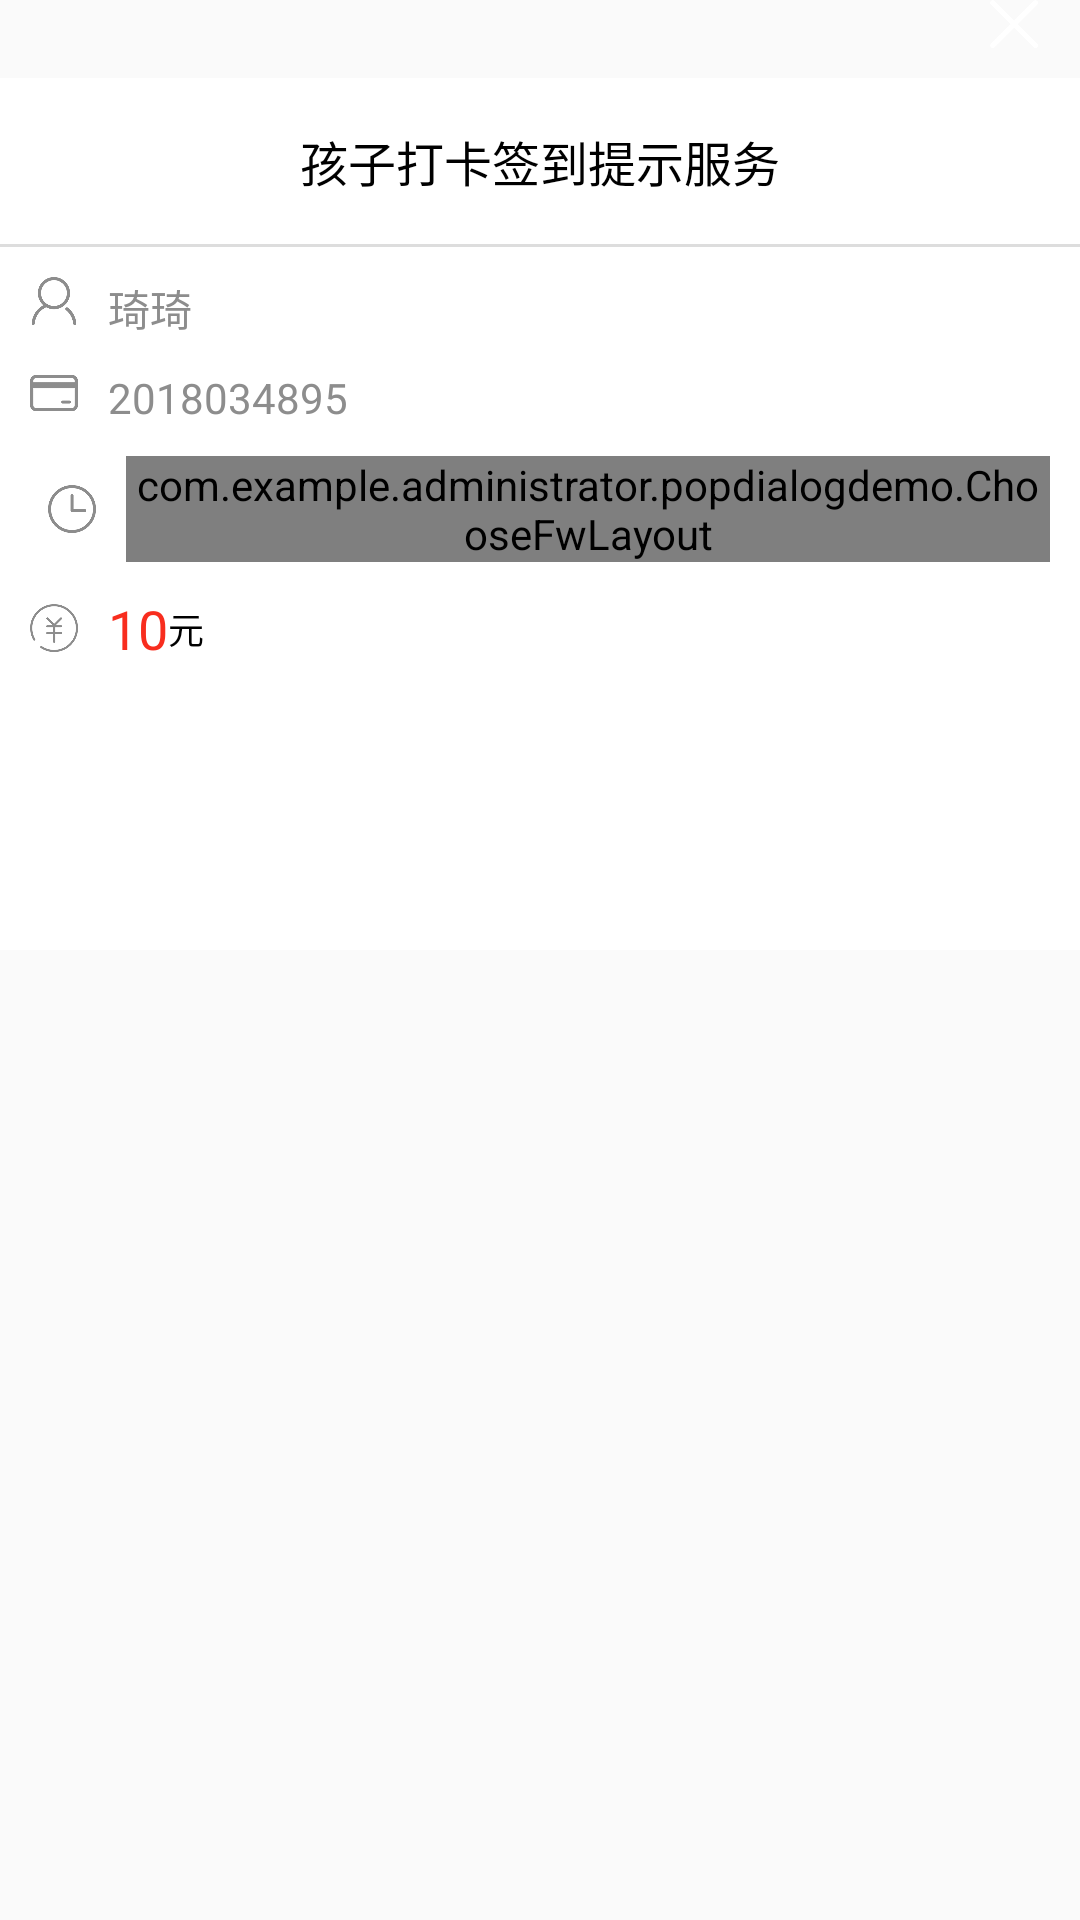

Locate icon controls on the screen. Image size 1080 × 1920, boxes as (x1, y1, x2, y2).
service card: (30, 375, 78, 411)
service mine: (32, 277, 76, 325)
service pay: (30, 604, 78, 652)
service time: (48, 485, 96, 533)
